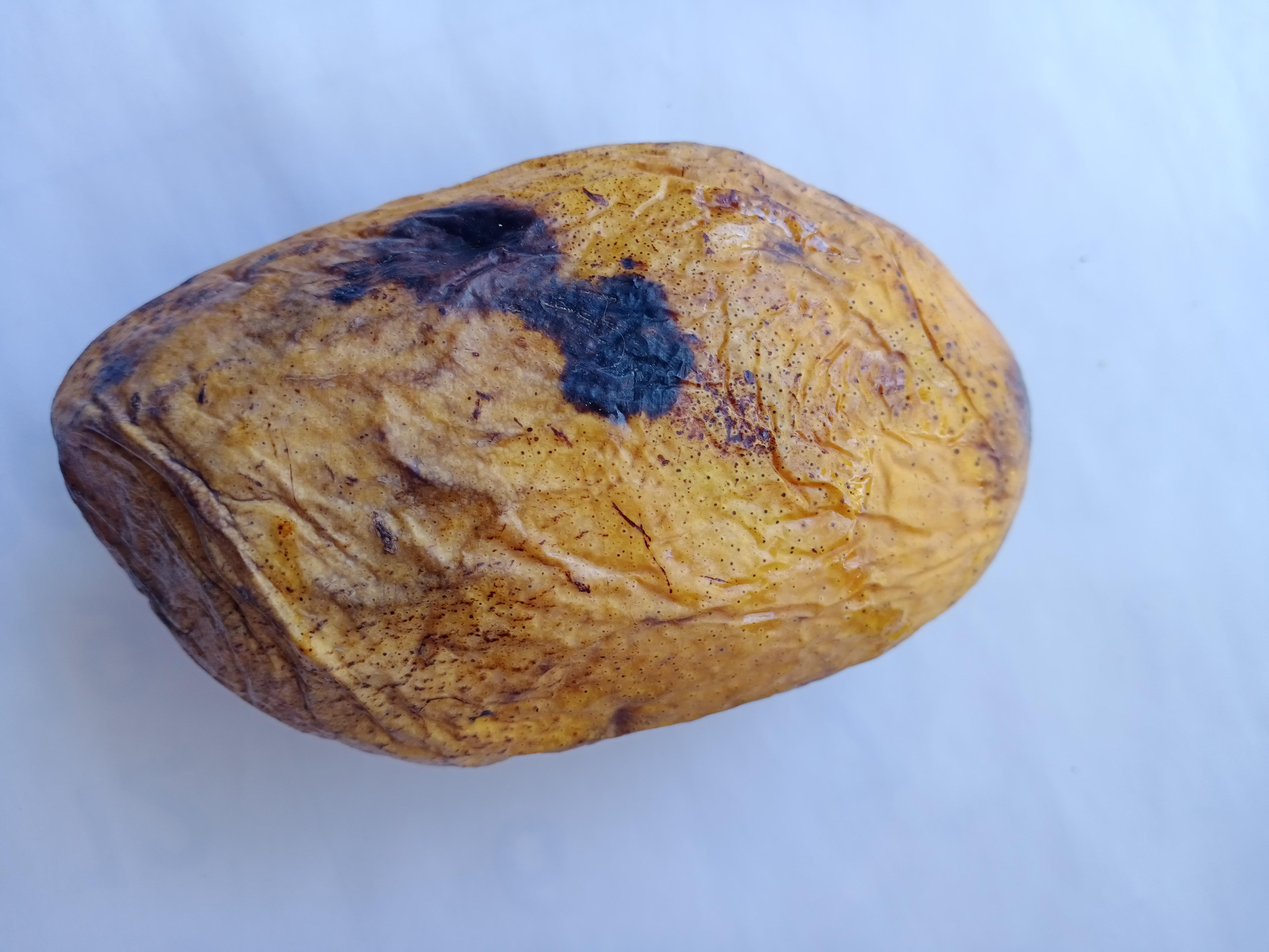Mango Overripe: (42, 116, 1060, 796)
